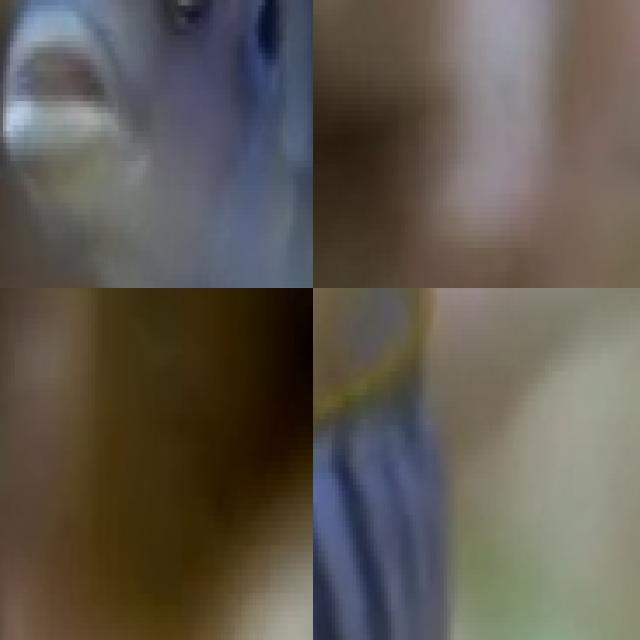fish: (0, 0, 313, 288), (313, 288, 482, 640)
